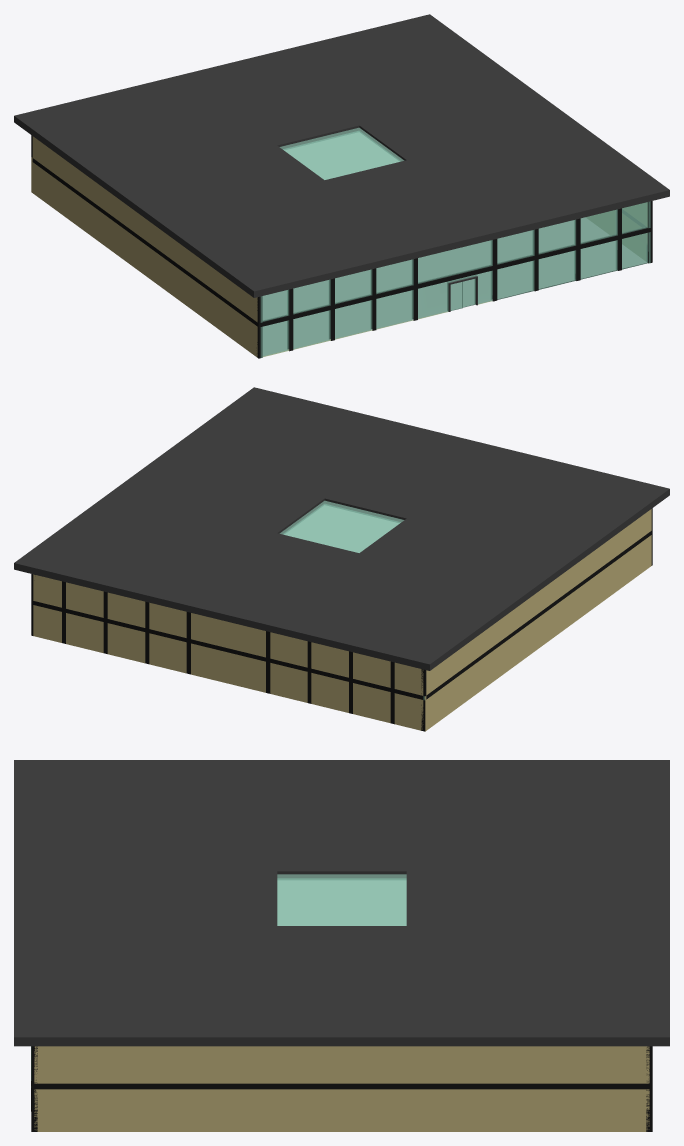
File: Grocery.fbx
3 renders of one model, top to bottom at view 1: azimuth 30°, elevation 25°; view 2: azimuth 150°, elevation 25°; view 3: azimuth 270°, elevation 25°, orthographic. The views are drawn at different scales.
Visible parts, largest first — view 1: Toit, Wall001, Sol001, PorteCoulissante002; view 2: Toit, Wall001, Sol001; view 3: Toit, Wall001, Sol001.
Part boxes in pixels (box(x1,y1,x2,y2)): Toit: box(14, 14, 669, 297); Wall001: box(31, 135, 652, 358); Sol001: box(263, 132, 646, 355); PorteCoulissante002: box(447, 275, 477, 311); Toit: box(14, 387, 669, 670); Wall001: box(31, 508, 652, 731); Sol001: box(285, 505, 398, 552); Toit: box(14, 760, 669, 1046); Wall001: box(31, 1046, 652, 1131); Sol001: box(277, 880, 406, 925).
Bounding box in the file's own units: 32 × 5.49 × 32.
